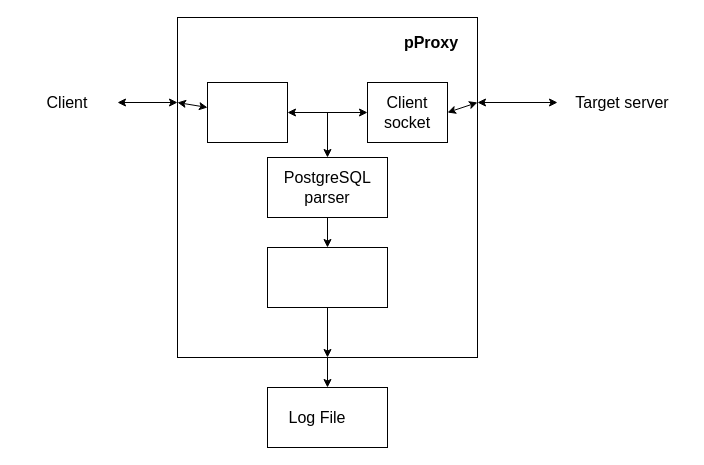
Some shapes in this 704 by 465 pixel diagram are drawn without their labels. Here are the shapes that lost their labels. From the top down, the centre of each, then its label:
At pixel 247 112: "Server socket".
At pixel 327 277: "Logger".
